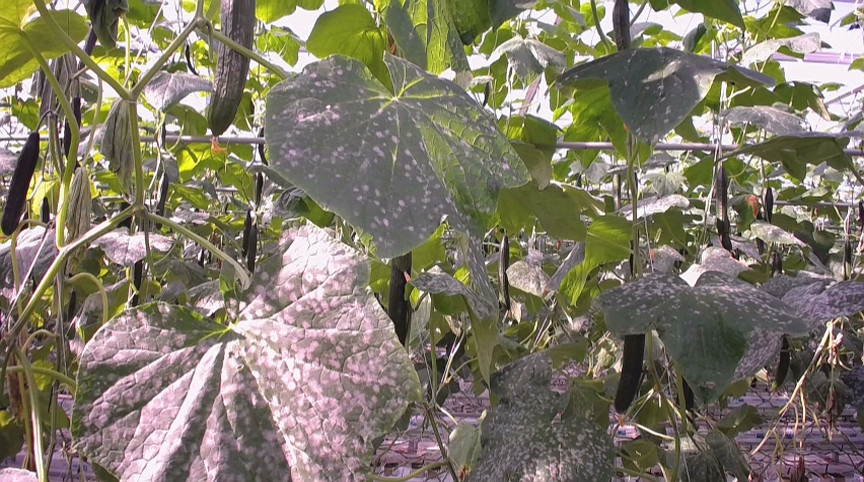cucumber: (207, 1, 256, 136), (2, 133, 43, 236), (616, 335, 646, 416), (715, 167, 734, 255), (497, 232, 514, 314)
